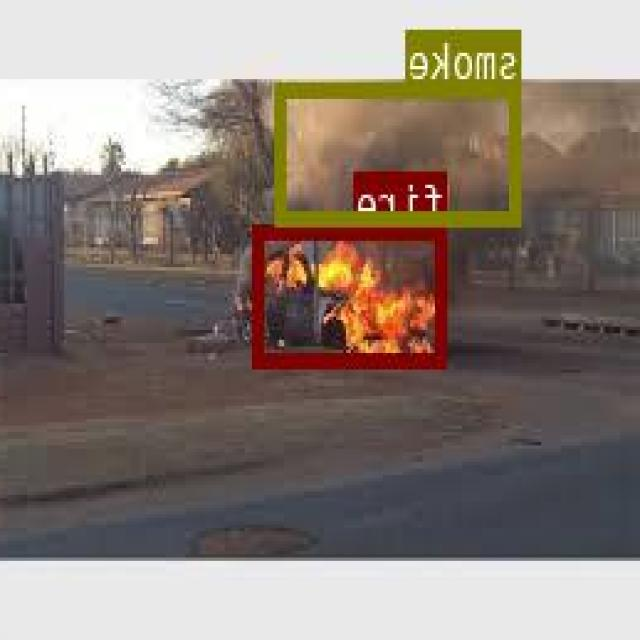fire: (256, 222, 448, 364)
smoke: (278, 80, 524, 224)
